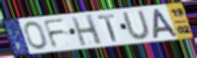A: (153, 8, 179, 39)
F: (42, 17, 68, 50)
H: (70, 13, 104, 48)
O: (23, 20, 49, 50)
T: (96, 13, 118, 43)
U: (120, 9, 153, 40)
